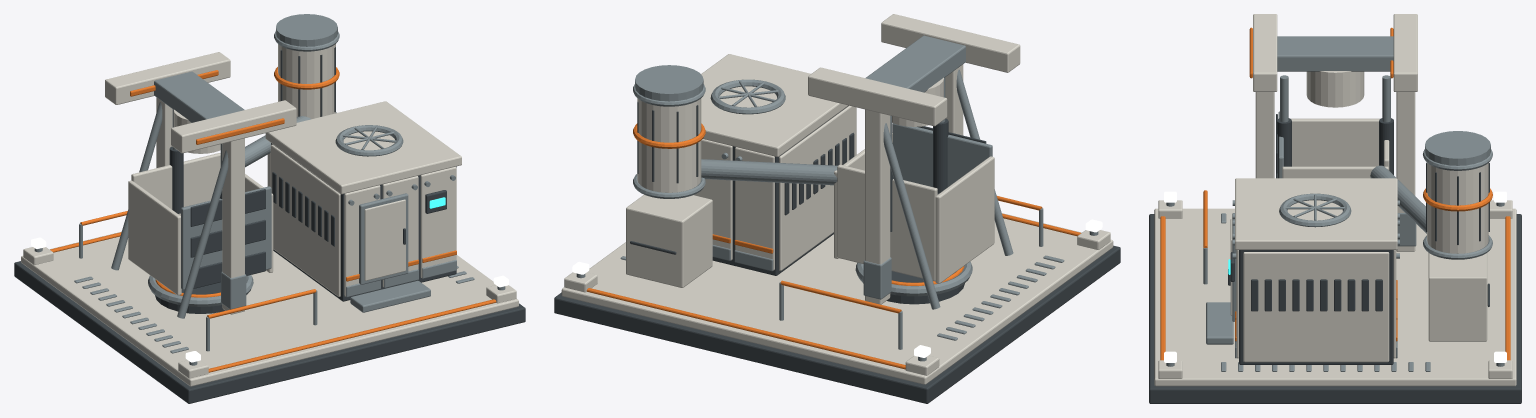
Rendered from SM_SilicaExtractor_Refined.fbx.
3 views of the same model, side by side, from view 1: azimuth 30°, elevation 25°; view 2: azimuth 150°, elevation 25°; view 3: azimuth 270°, elevation 25° (orthographic). The views are drawn at different scales.
Parts seen in each view (by area): view 1: SM_SilicaExtractor_Refined.001; view 2: SM_SilicaExtractor_Refined.001; view 3: SM_SilicaExtractor_Refined.001.
Boxes of the visible parts, x1,y1,x2,y2 form: SM_SilicaExtractor_Refined.001: [14, 14, 525, 403]; SM_SilicaExtractor_Refined.001: [554, 14, 1120, 403]; SM_SilicaExtractor_Refined.001: [1149, 14, 1521, 403].
Size of the model in its own units: 390 by 350 by 246.
